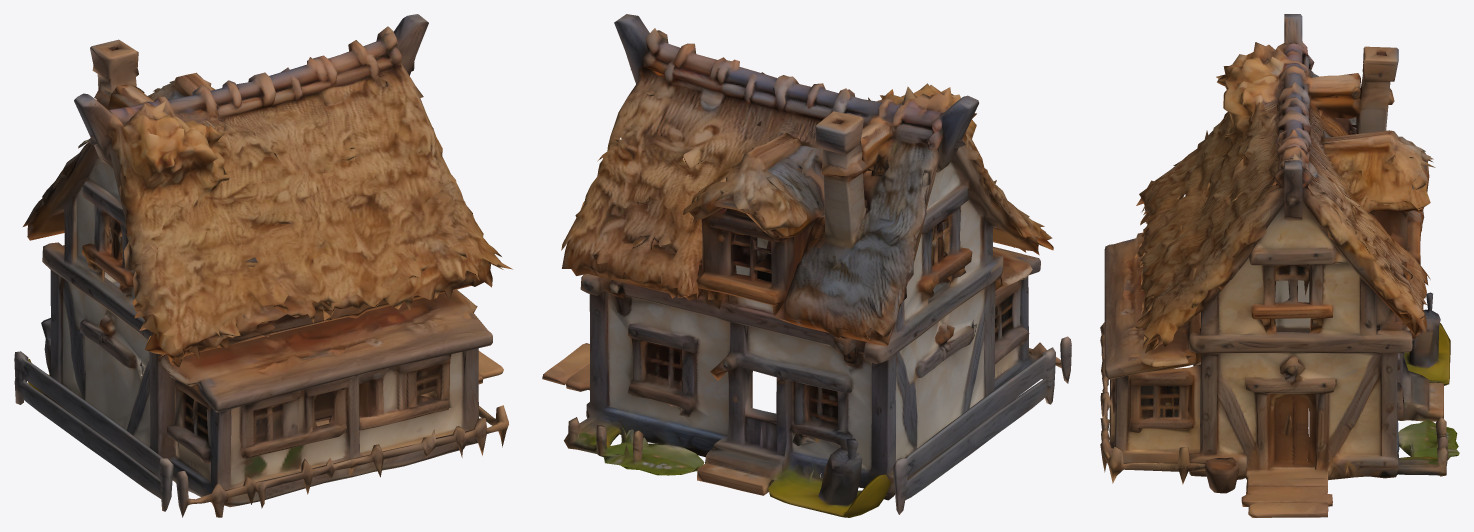
File: prop_house.glb
3 views of the same model, side by side, from view 1: azimuth 30°, elevation 25°; view 2: azimuth 150°, elevation 25°; view 3: azimuth 270°, elevation 25° (orthographic). The views are drawn at different scales.
Parts seen in each view (by area): view 1: tripo_node_6fe1d77b-8911-420f-bf35-2f261b2111d8; view 2: tripo_node_6fe1d77b-8911-420f-bf35-2f261b2111d8; view 3: tripo_node_6fe1d77b-8911-420f-bf35-2f261b2111d8.
Boxes of the visible parts, left/top/right/bottom form: tripo_node_6fe1d77b-8911-420f-bf35-2f261b2111d8: left=14, top=14, right=512, bottom=517; tripo_node_6fe1d77b-8911-420f-bf35-2f261b2111d8: left=542, top=14, right=1071, bottom=517; tripo_node_6fe1d77b-8911-420f-bf35-2f261b2111d8: left=1100, top=14, right=1459, bottom=517.
Bounding box in the file's own units: 0.9989 × 0.8366 × 0.8303.
1 material, 1 textured.
